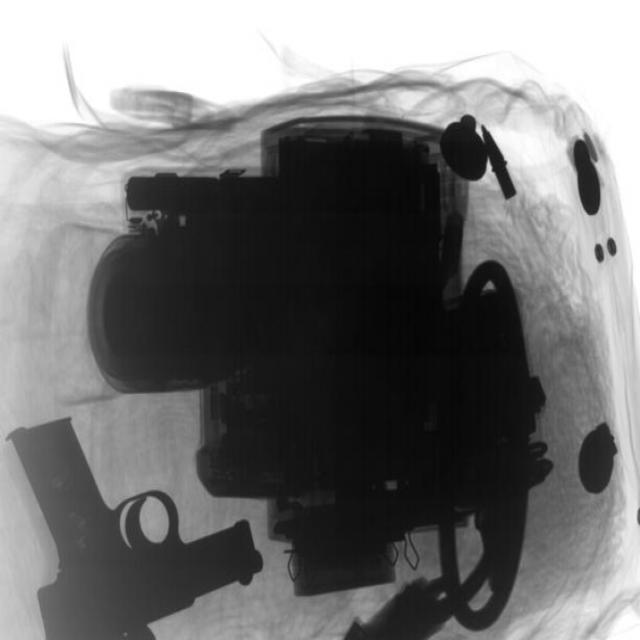GUN: (15, 415, 262, 640), (287, 472, 576, 640)
